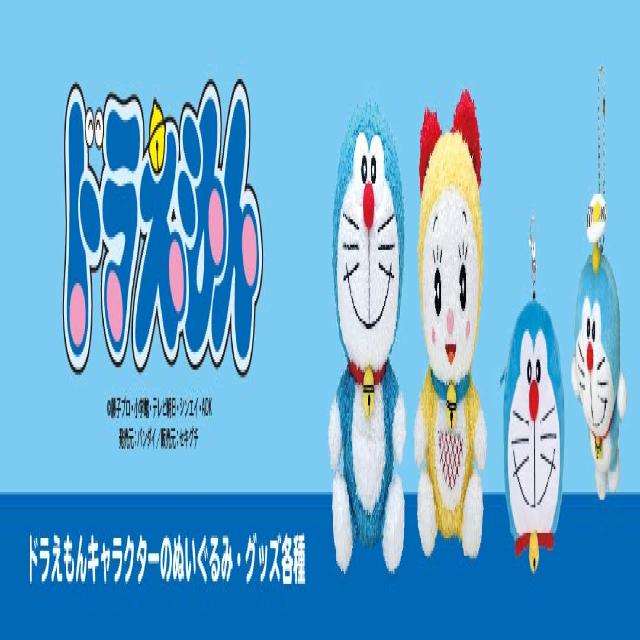doraemon: (328, 87, 410, 510), (496, 275, 573, 574), (574, 237, 628, 525)
